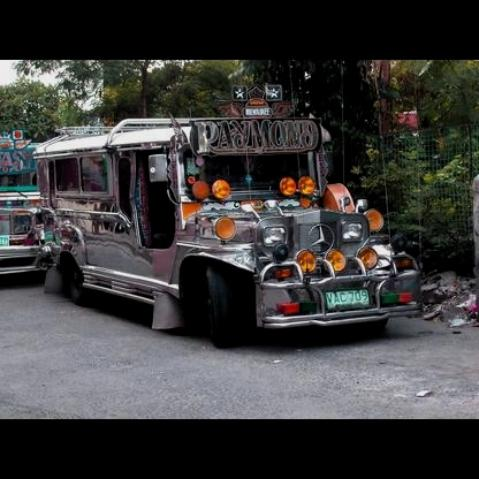jeepney: (33, 111, 435, 358)
